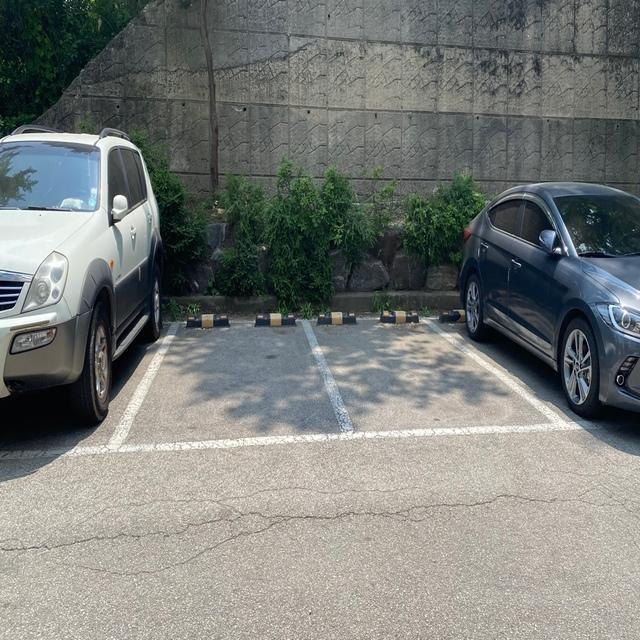empty: (98, 314, 360, 458), (300, 313, 581, 445)
